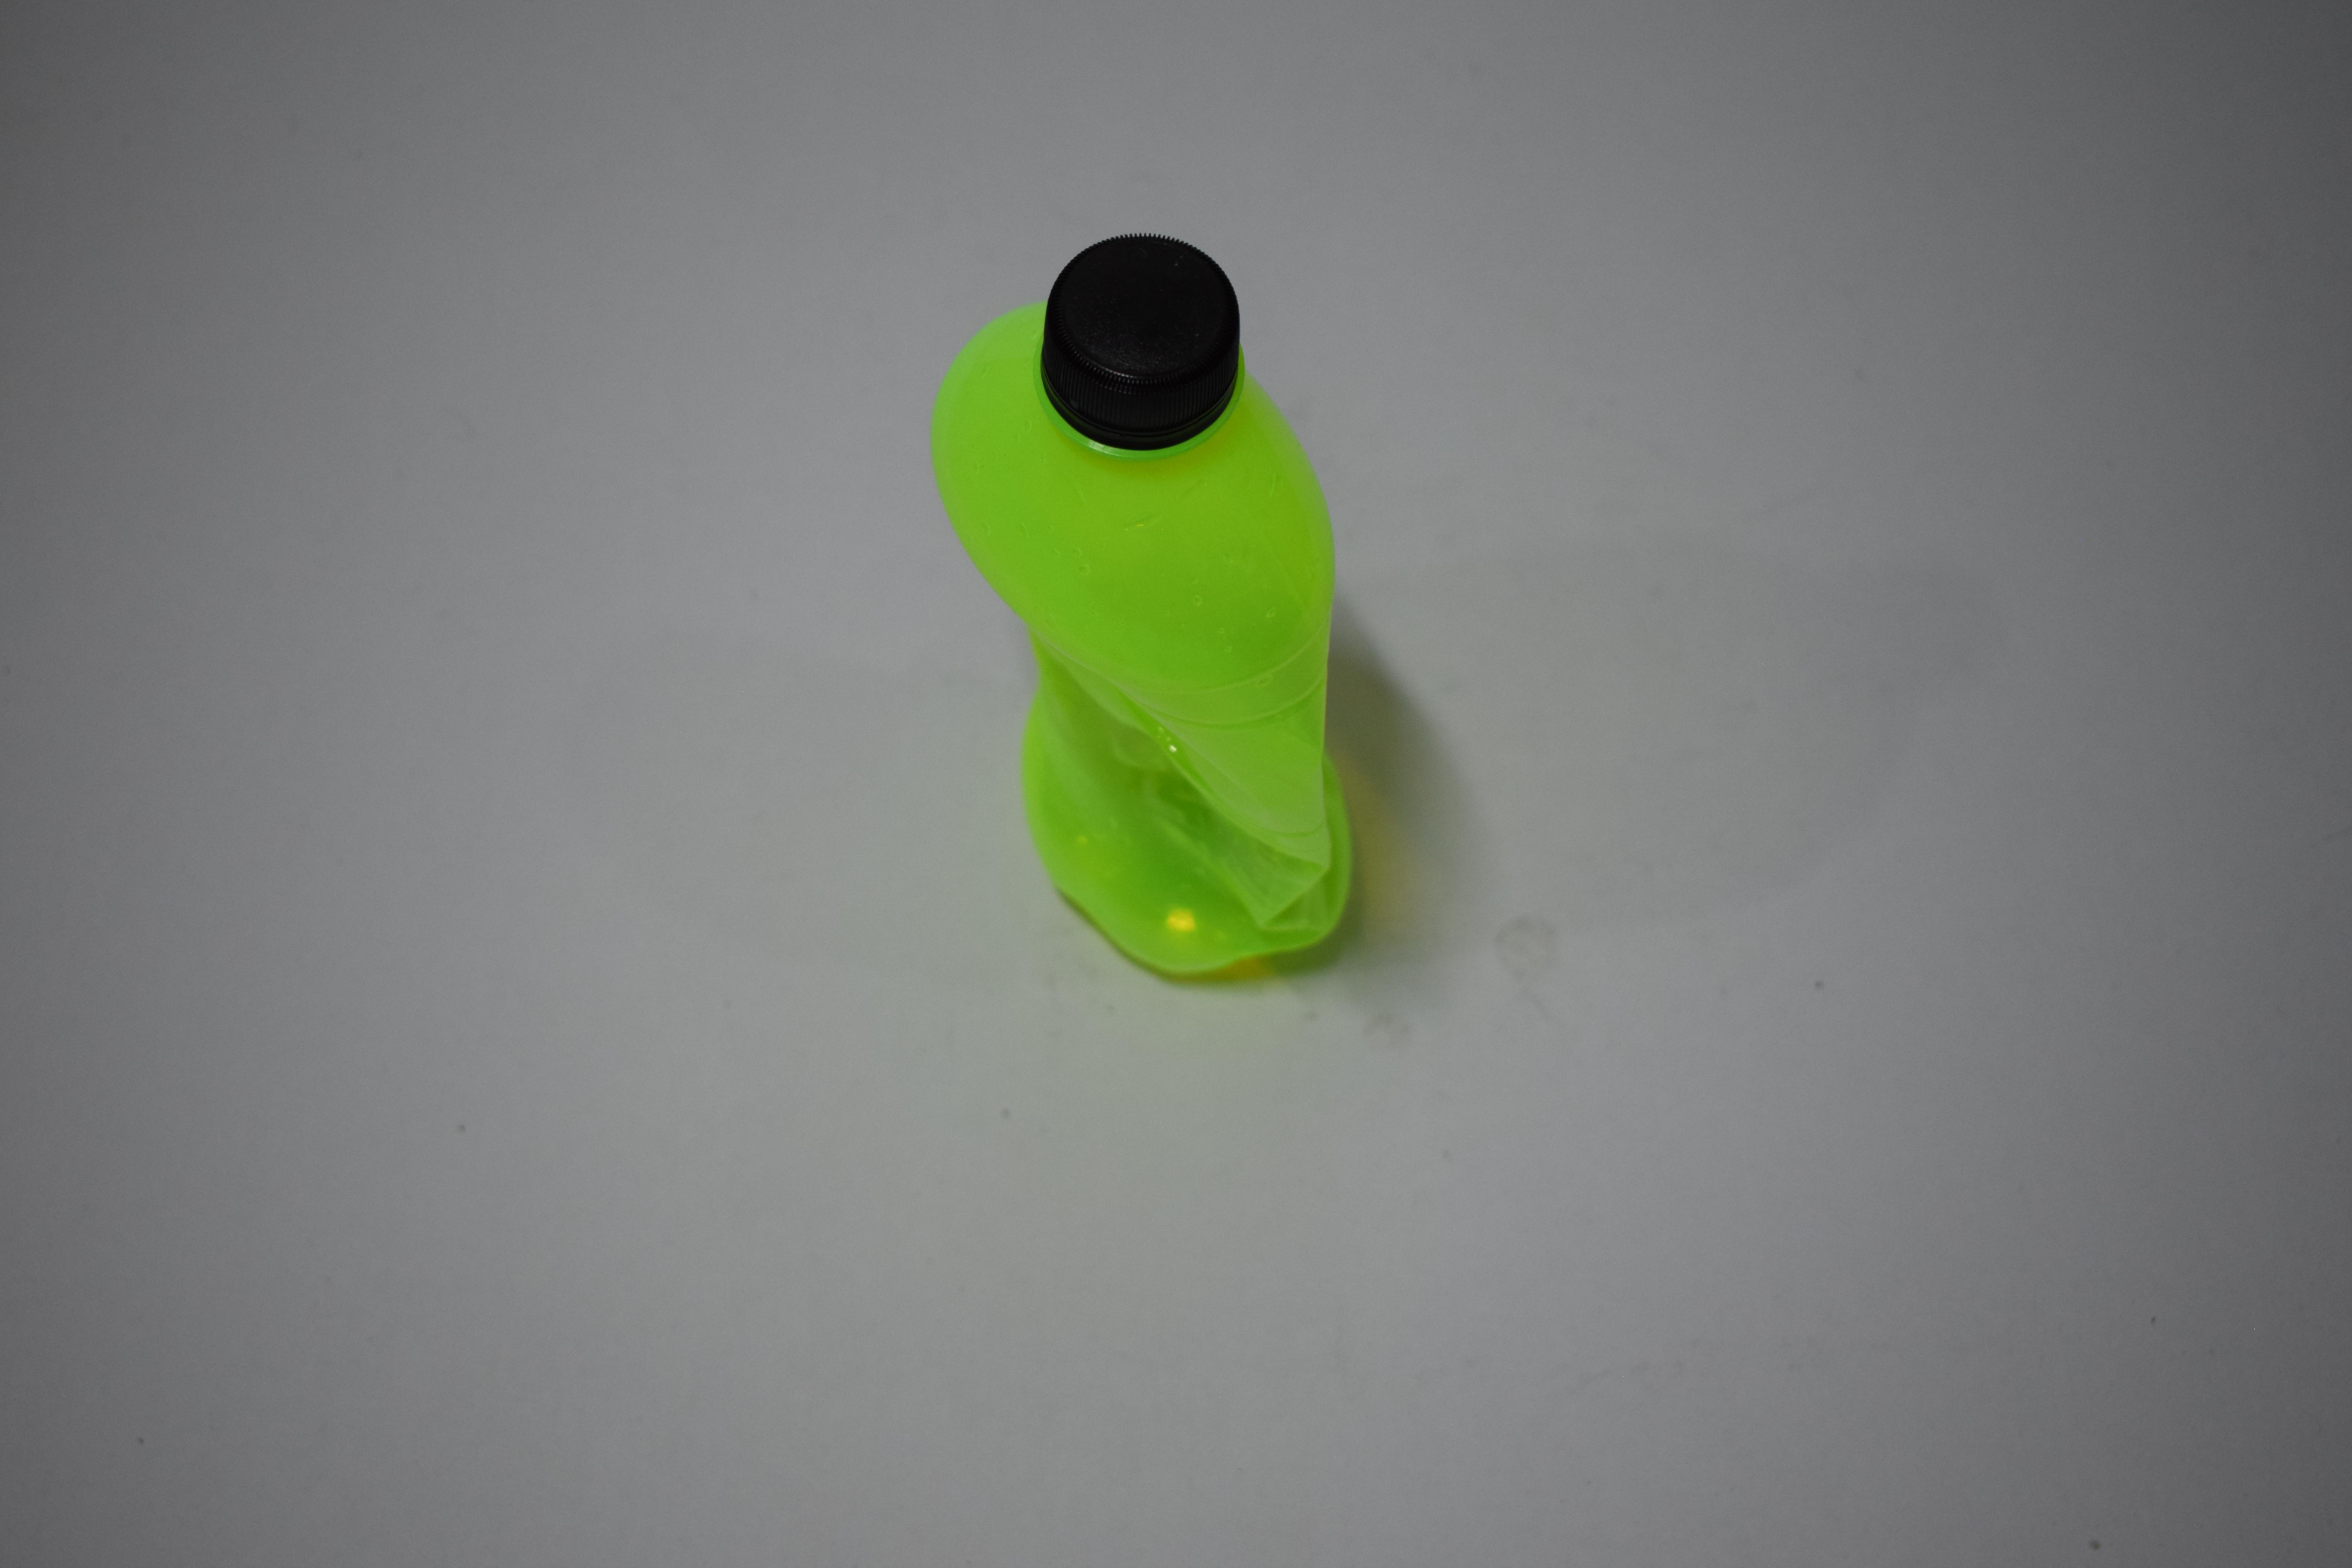bottle: (929, 220, 1360, 990)
